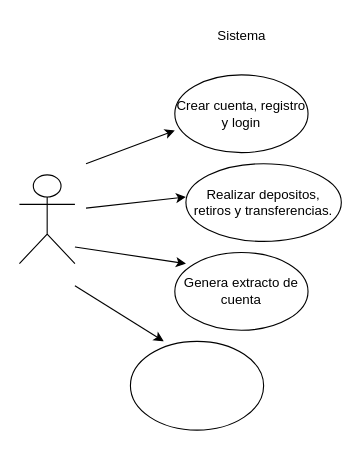
Image size: 361x450. Some labels were removed from this diagram. Each missing label, with the centre of its shape:
Cliente: pixel 46 219
Elige un tipo de cuenta: pixel 196 385
